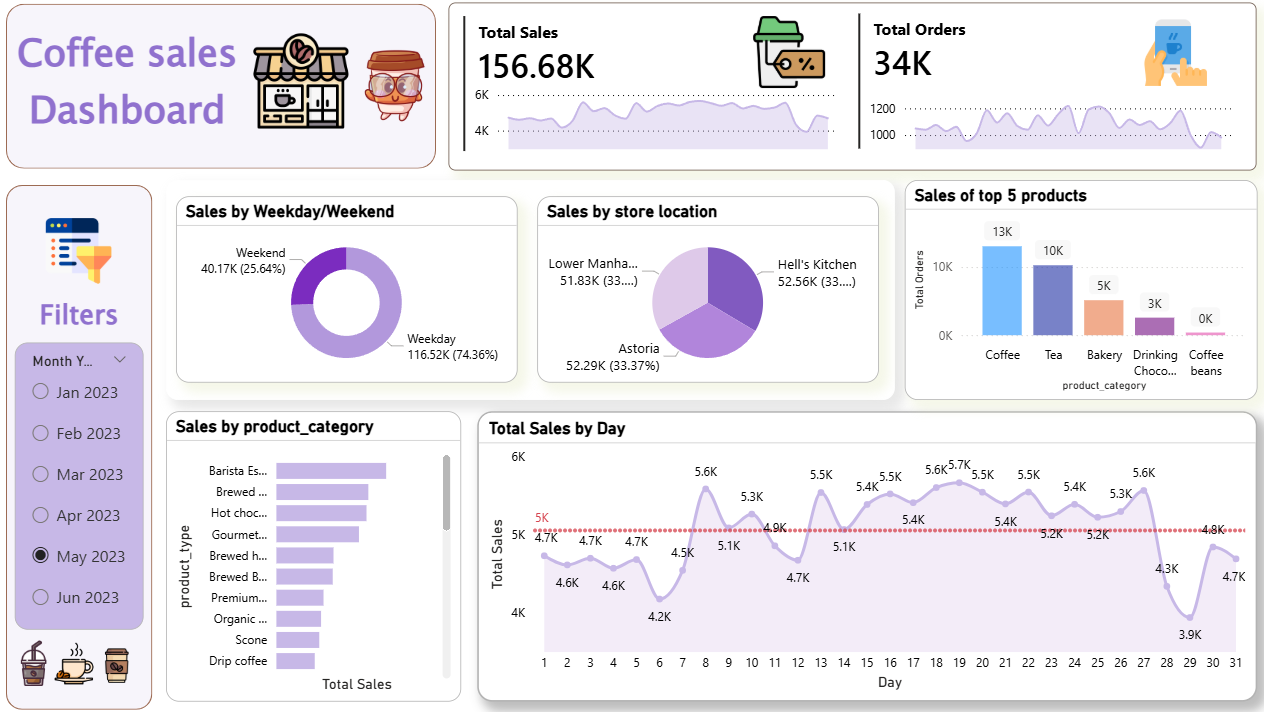

What the dashboard file says about the page in this screenshot:
{"tool":"powerbi","page":{"name":"Page 1","canvas":[1280,720],"ordinal":0},"visuals":[{"type":"shape","box":[10,8.8,430,165],"z":0},{"type":"shape","box":[10,190,146.3,524.7],"z":1000},{"type":"shape","box":[452.7,7.3,808.3,168.3],"z":2000},{"type":"shape","box":[170,185,728.8,220],"z":3000},{"type":"cardVisual","fields":{"Data":["Coffee_Shop_Sales.Total Sales"]},"box":[462.7,15.7,383.3,145],"z":4000},{"type":"slicer","fields":{"Values":["Date Table.Month Year"]},"box":[18.8,347.5,128.8,287.5],"z":5000},{"type":"lineChart","fields":{"Category":["Date Table.Date.Variation.Date Hierarchy.Year","Date Table.Date.Variation.Date Hierarchy.Quarter","Date Table.Date.Variation.Date Hierarchy.Month","Date Table.Date.Variation.Date Hierarchy.Day"],"Y":["Coffee_Shop_Sales.Total Sales"]},"box":[474.3,85.7,373.3,73.3],"z":6000},{"type":"cardVisual","fields":{"Data":["Coffee_Shop_Sales.Total Orders"]},"box":[857.7,14,383.3,145],"z":7000},{"type":"lineChart","fields":{"Category":["Date Table.Date.Variation.Date Hierarchy.Year","Date Table.Date.Variation.Date Hierarchy.Quarter","Date Table.Date.Variation.Date Hierarchy.Month","Date Table.Date.Variation.Date Hierarchy.Day"],"Y":["Coffee_Shop_Sales.Total Orders"]},"box":[869.3,85.7,371.7,73.3],"z":8000},{"type":"donutChart","title":"Sales by Weekday/Weekend","fields":{"Category":["Date Table.Weekdat/Weekend"],"Y":["Coffee_Shop_Sales.Total Sales"]},"box":[180,201.7,341.7,186.7],"z":9000},{"type":"pieChart","title":"Sales by store location","fields":{"Category":["Coffee_Shop_Sales.store_location"],"Y":["Coffee_Shop_Sales.Total Sales"]},"box":[541.7,201.7,341.7,186.7],"z":10000},{"type":"barChart","title":" Sales by product_category","fields":{"Category":["Coffee_Shop_Sales.product_type"],"Y":["Coffee_Shop_Sales.Total Sales"]},"box":[170,416.7,295,290],"z":11000},{"type":"lineChart","fields":{"Y":["Coffee_Shop_Sales.Total Sales"],"Category":["Date Table.Date.Variation.Date Hierarchy.Day"]},"box":[481.2,416.2,780,290],"z":12000},{"type":"columnChart","title":" Sales of top 5 products ","fields":{"Category":["Coffee_Shop_Sales.product_category"],"Y":["Coffee_Shop_Sales.Total Orders"],"Series":["Coffee_Shop_Sales.product_category"]},"box":[908.8,185,352.5,220],"z":13000},{"type":"textbox","box":[10,25,242.5,131.2],"z":14000},{"type":"textbox","box":[22.5,295,121.2,52.5],"z":15000},{"type":"image","box":[252.5,28.8,105,113.8],"z":16000},{"type":"image","box":[10,635.6,55.6,66.7],"z":17000},{"type":"image","box":[45,217.5,75,77.5],"z":18000},{"type":"image","box":[1125,16,108,82],"z":19000},{"type":"image","box":[739,16,108,82],"z":20000},{"type":"image","box":[357.1,48.6,82.9,84.3],"z":21000},{"type":"image","box":[52.2,635.6,51.1,66.7],"z":22000},{"type":"image","box":[98.9,635.6,44.4,71.1],"z":23000}]}

Visuals, with their boxes in screenshot pixels (x1, y1, x2, y2), scaled from the page's 1280x720 canvas onto the 1264x712 screenshot:
shape: (10,9,434,172)
shape: (10,188,154,707)
shape: (447,7,1245,174)
shape: (168,183,888,400)
cardVisual - Coffee_Shop_Sales.Total Sales: (457,16,835,159)
slicer - Date Table.Month Year: (19,344,146,628)
lineChart - Date Table.Date.Variation.Date Hierarchy.Year x Date Table.Date.Variation.Date Hierarchy.Quarter: (468,85,837,157)
cardVisual - Coffee_Shop_Sales.Total Orders: (847,14,1225,157)
lineChart - Date Table.Date.Variation.Date Hierarchy.Year x Date Table.Date.Variation.Date Hierarchy.Quarter: (858,85,1225,157)
"Sales by Weekday/Weekend" donutChart: (178,199,515,384)
"Sales by store location" pieChart: (535,199,872,384)
" Sales by product_category" barChart: (168,412,459,699)
lineChart - Coffee_Shop_Sales.Total Sales x Date Table.Date.Variation.Date Hierarchy.Day: (475,412,1245,698)
" Sales of top 5 products " columnChart: (897,183,1246,400)
textbox: (10,25,249,154)
textbox: (22,292,142,344)
image: (249,28,353,141)
image: (10,629,65,694)
image: (44,215,118,292)
image: (1111,16,1218,97)
image: (730,16,836,97)
image: (353,48,434,131)
image: (52,629,102,694)
image: (98,629,142,699)
